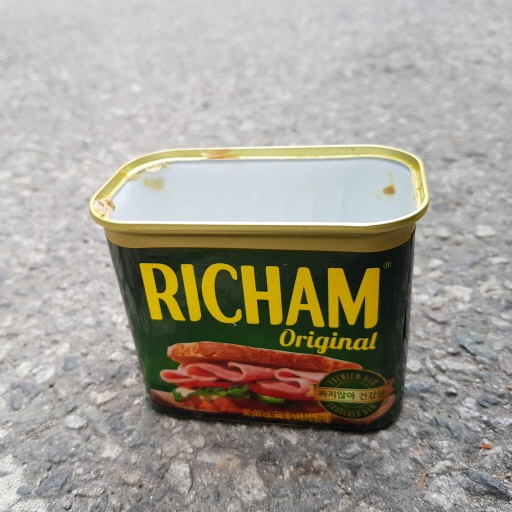Metal_2: (86, 143, 432, 434)
